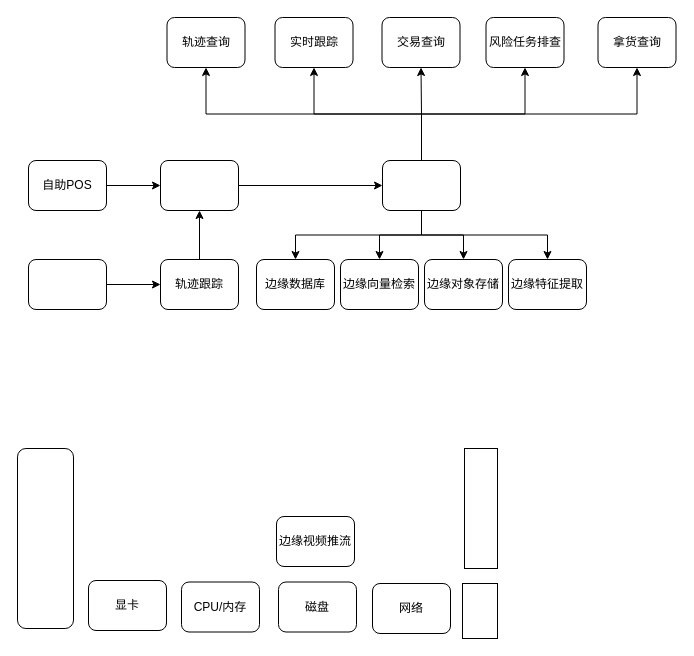
This 694x656 diagram has some shape labels left out. Each missing label, with the centre of its shape:
"RexAgent监控调度" goes at point 45,538.
"前场摄像头" goes at point 67,284.
"基础硬件" goes at point 480,610.
"边缘MQTT" goes at point 199,185.
"边缘业务服务" goes at point 421,185.
"边缘容器 服务" goes at point 481,508.
